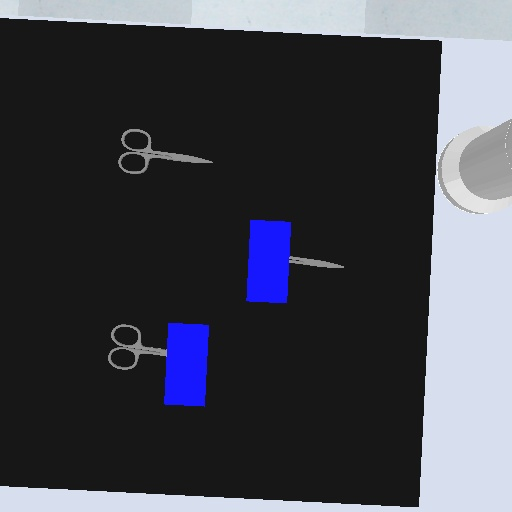tijera: (115, 126, 216, 179), (104, 321, 168, 375), (288, 254, 347, 273)
